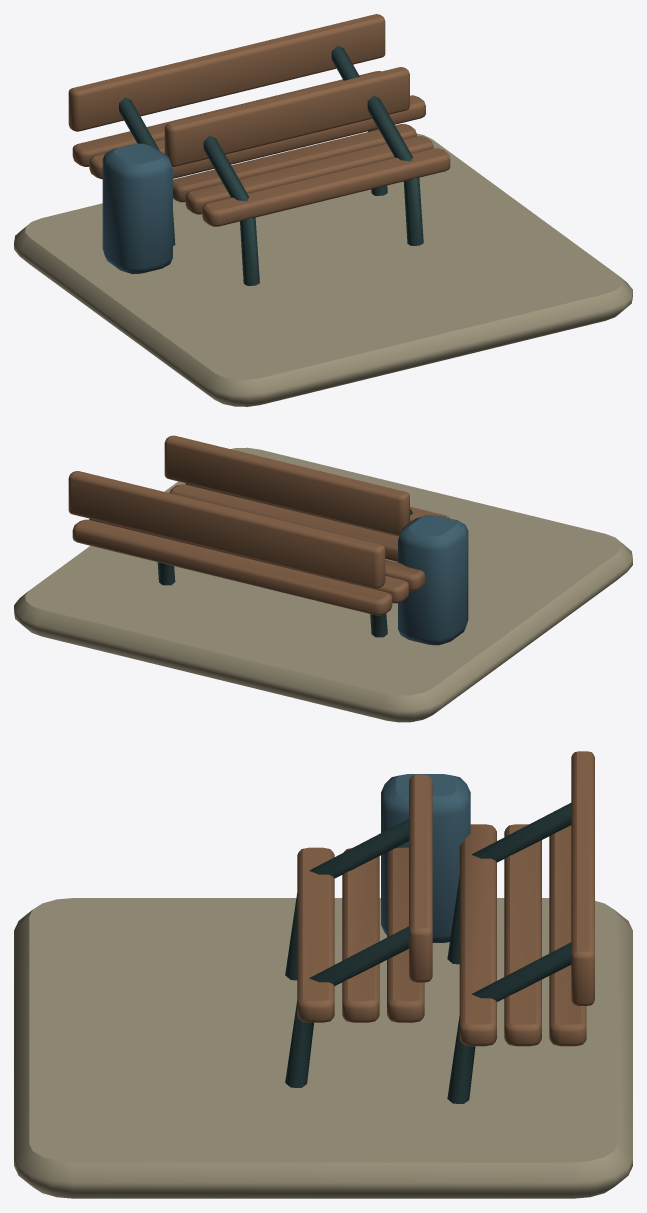
File: annex_truck_park_2.glb
3 renders of one model, top to bottom at view 1: azimuth 30°, elevation 25°; view 2: azimuth 150°, elevation 25°; view 3: azimuth 270°, elevation 25°, orthographic. The views are drawn at different scales.
Parts seen in each view (by area): view 1: AnnexTruckPark2; view 2: AnnexTruckPark2; view 3: AnnexTruckPark2.
Boxes of the visible parts, x1,y1,x2,y2 form: AnnexTruckPark2: [14, 14, 632, 406]; AnnexTruckPark2: [14, 435, 632, 722]; AnnexTruckPark2: [14, 751, 632, 1198].
Bounding box in the file's own units: 2.63 × 0.95 × 2.48.
